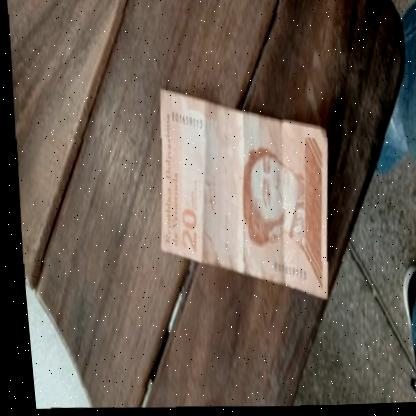twenty-front-vef: (142, 83, 338, 307)
